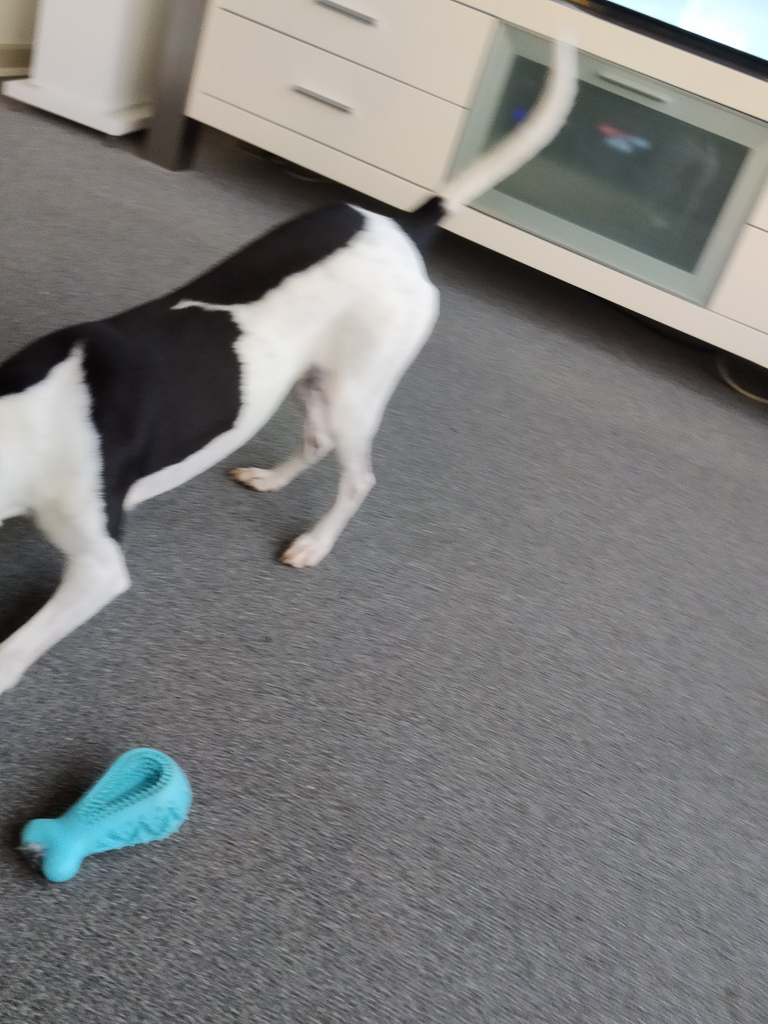Dog: (0, 19, 589, 721)
